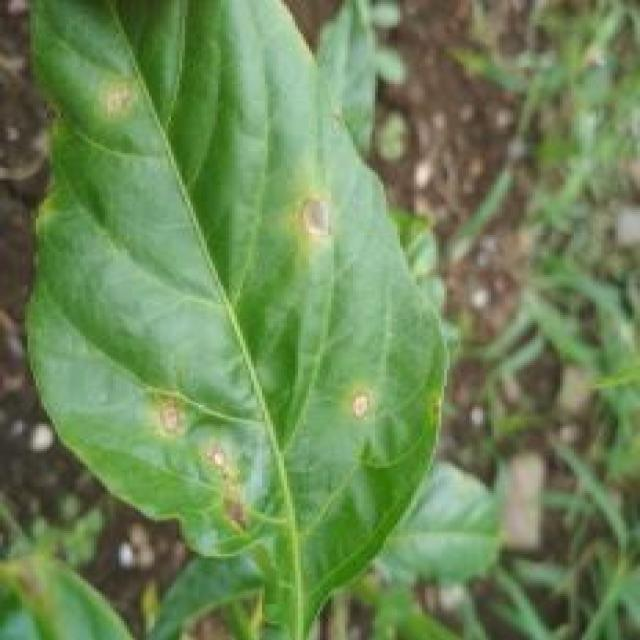bercak_daun: (11, 8, 456, 618)
